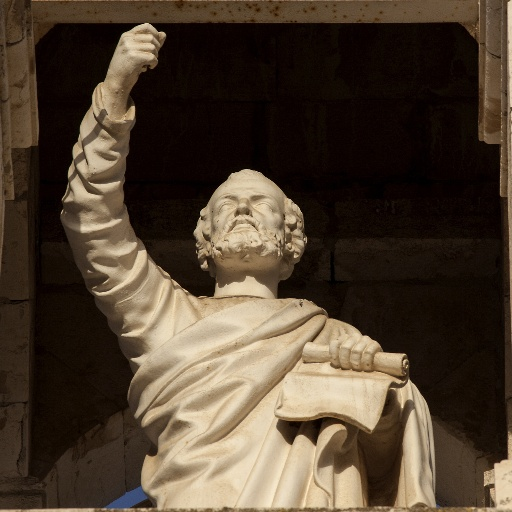hand: (106, 22, 166, 87), (327, 331, 383, 371)
